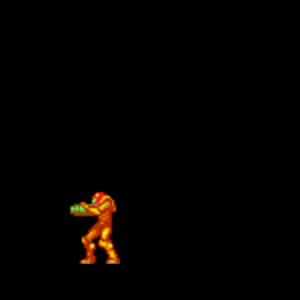Collectible: (70, 192, 120, 264)
